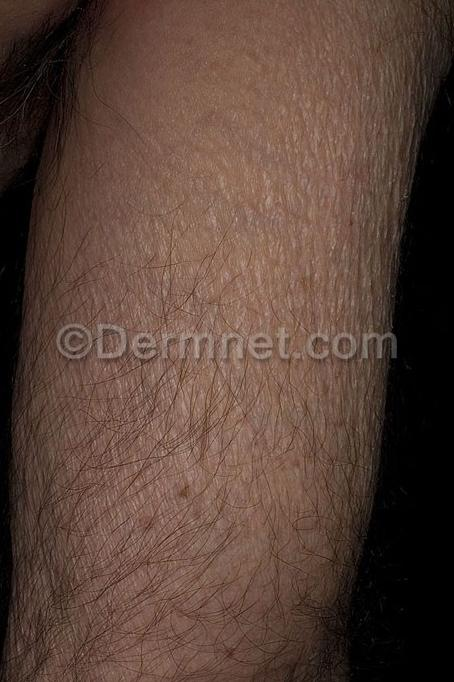liquenificacion 1: (180, 12, 446, 526)
